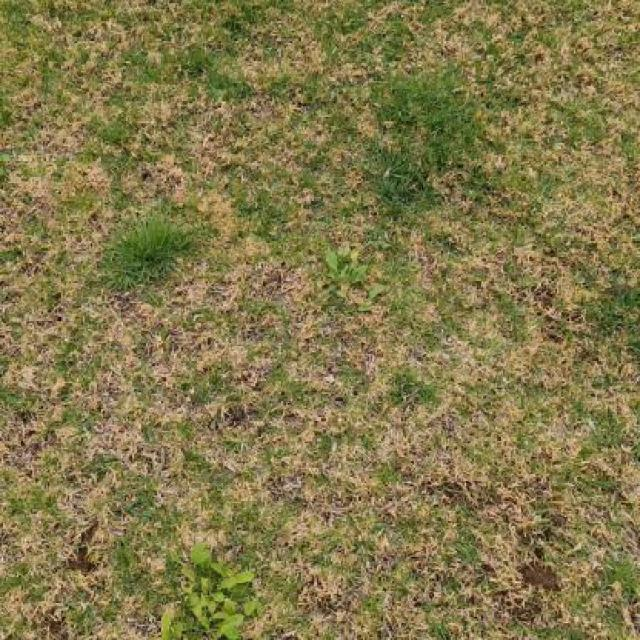weed: (162, 545, 262, 639)
